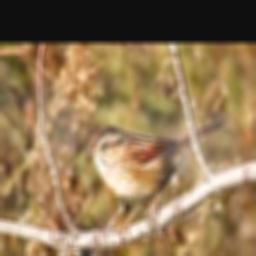Sparrow: (86, 120, 224, 244)
